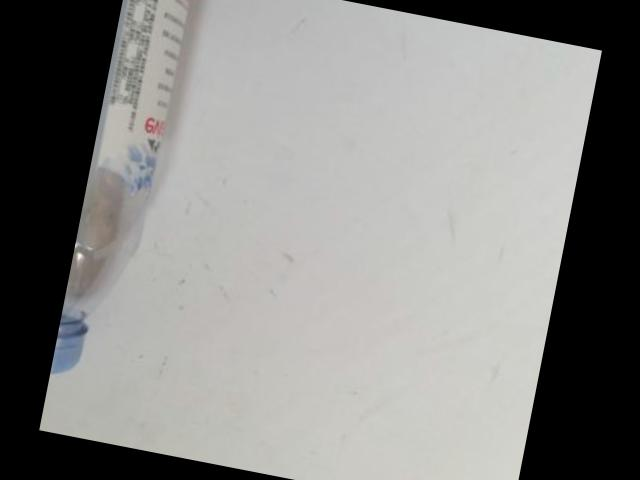plastic: (50, 0, 192, 373)
